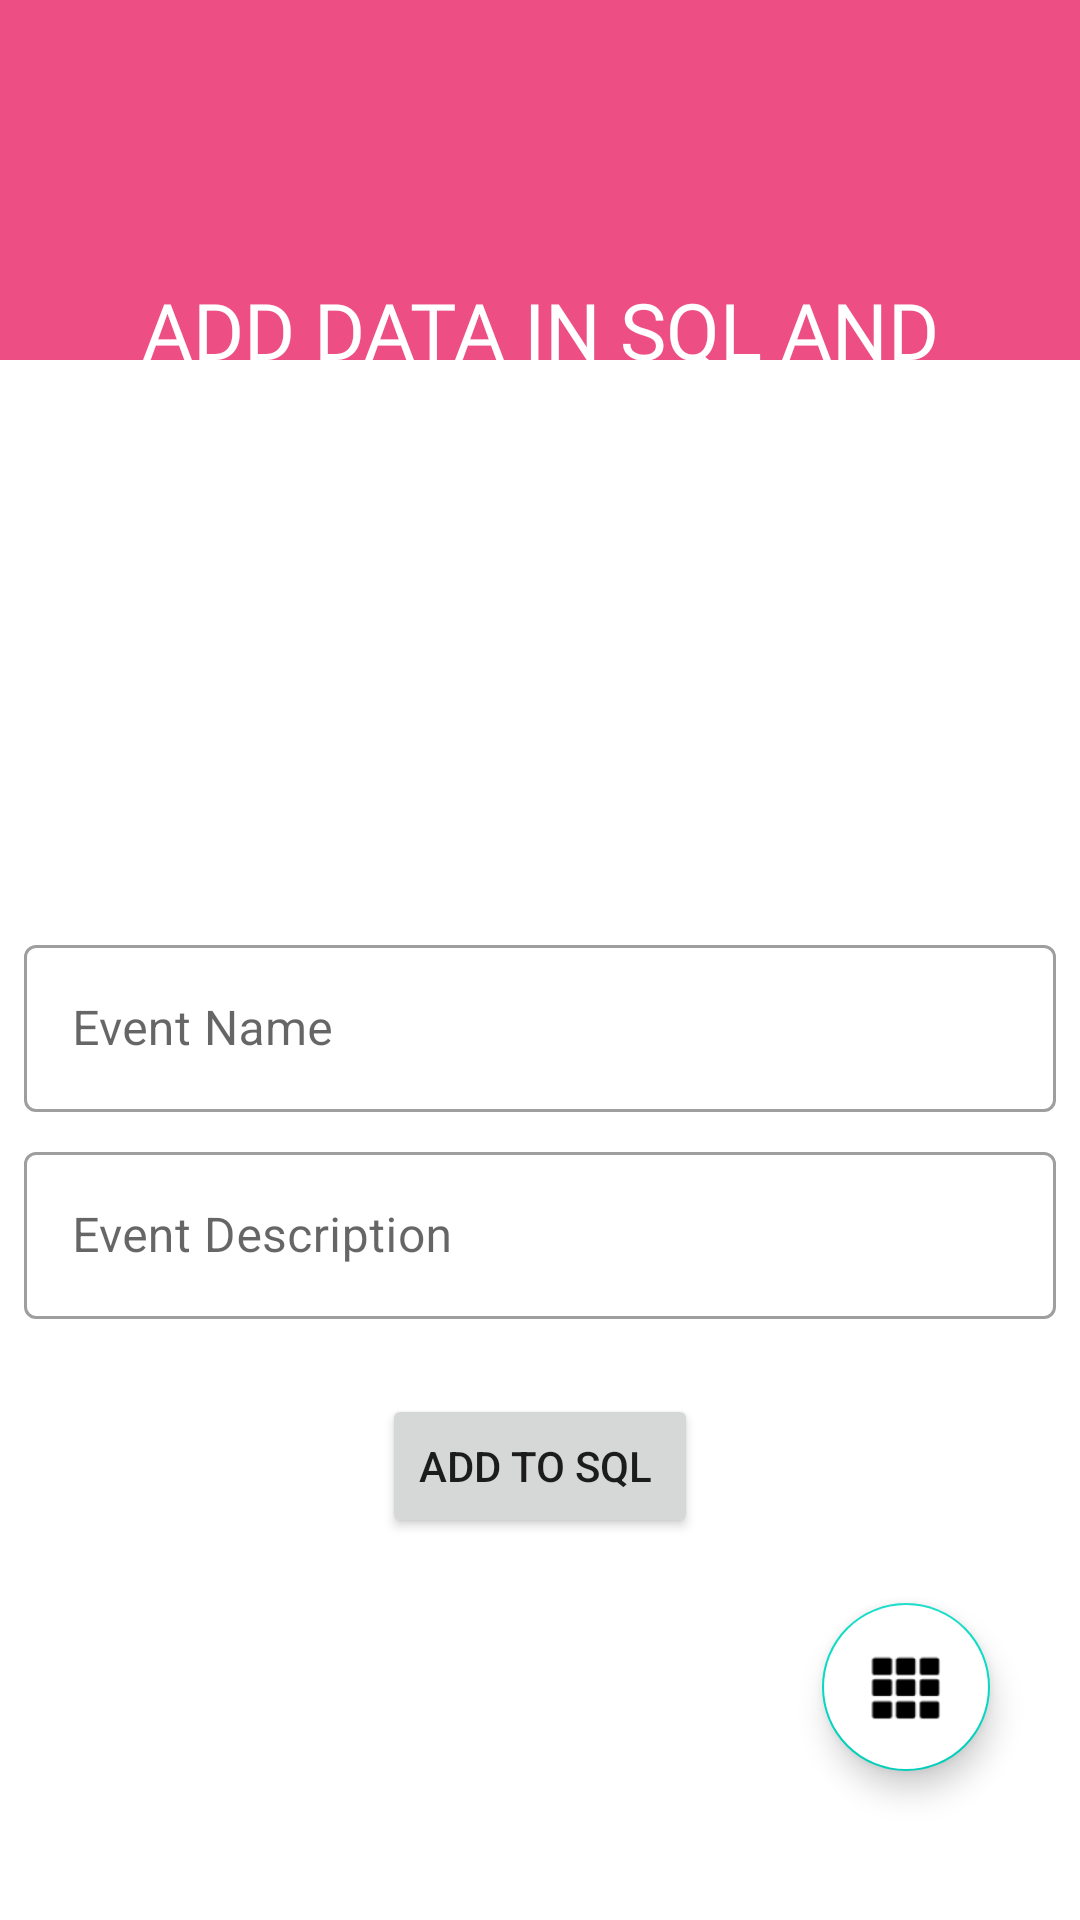

Icons on this 1080*1920 Android screen, each with the point to tap as (x,y):
dialer: (905,1688)
